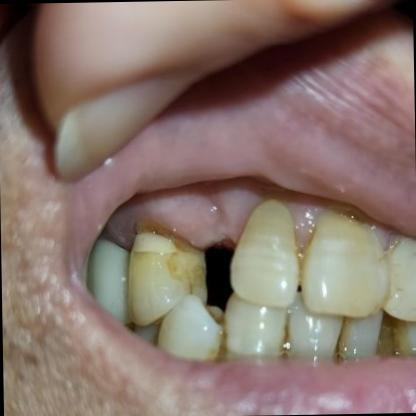Missing: (129, 223, 298, 313)
